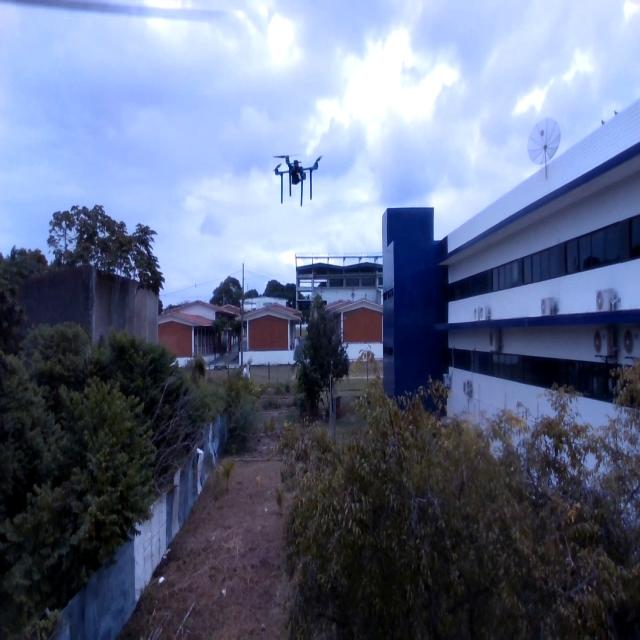-uav-: (266, 138, 329, 213)
